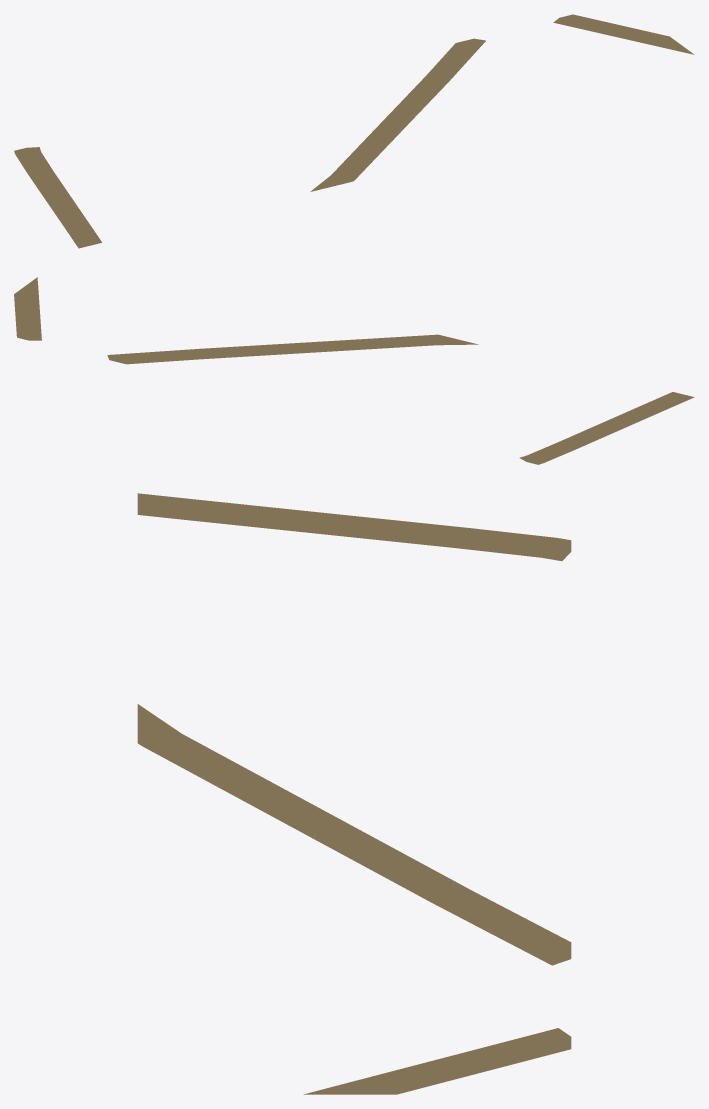
The model's file is Ulice_1_4.fbx.
The picture shows the model from 3 angles, top to bottom: view 1: azimuth 30°, elevation 25°; view 2: azimuth 150°, elevation 25°; view 3: azimuth 270°, elevation 25°; orthographic projection. The views are drawn at different scales.
Parts seen in each view (by area): view 1: Ulica_1_4; view 2: Ulica_1_4; view 3: Ulica_1_4.
Boxes of the visible parts, x1,y1,x2,y2 form: Ulica_1_4: (14,14,694,248); Ulica_1_4: (14,277,694,464); Ulica_1_4: (137,493,571,1094).
Size of the model in its own units: 230 by 1.14e-05 by 70.
